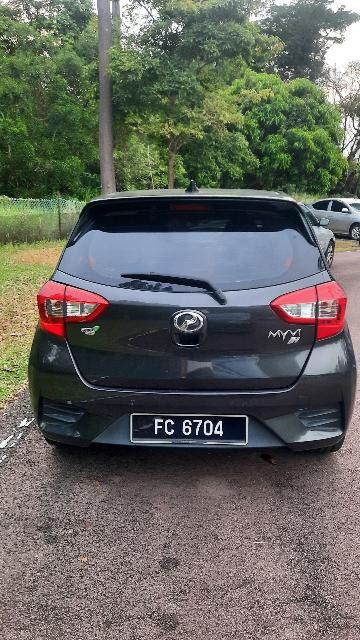License_Plate: (134, 409, 249, 449)
car: (38, 193, 354, 471)
